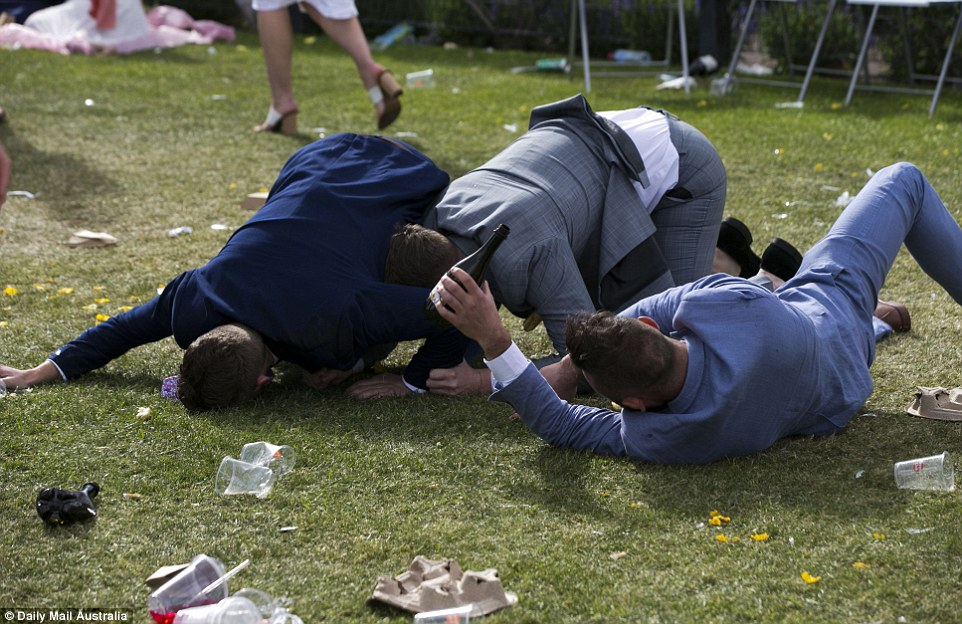Person: (1, 131, 393, 413), (432, 269, 873, 462), (380, 92, 727, 290)
